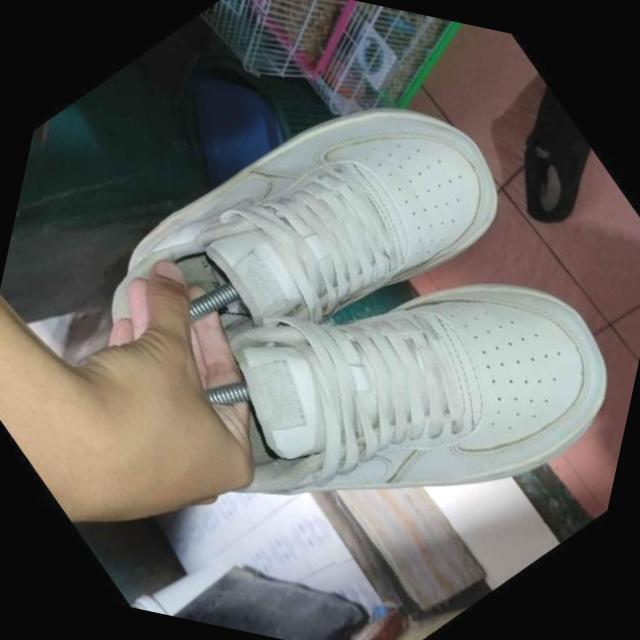nike_fake_airforce: (103, 107, 640, 640), (61, 0, 553, 494)
